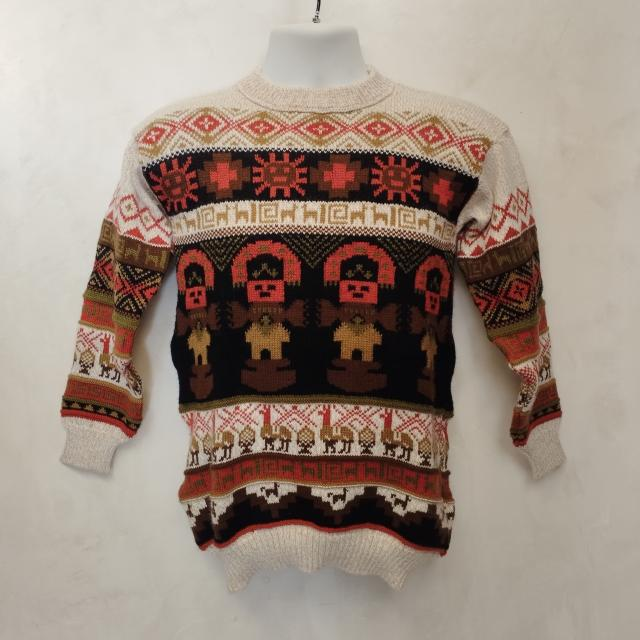Chompa: (59, 18, 566, 594)
